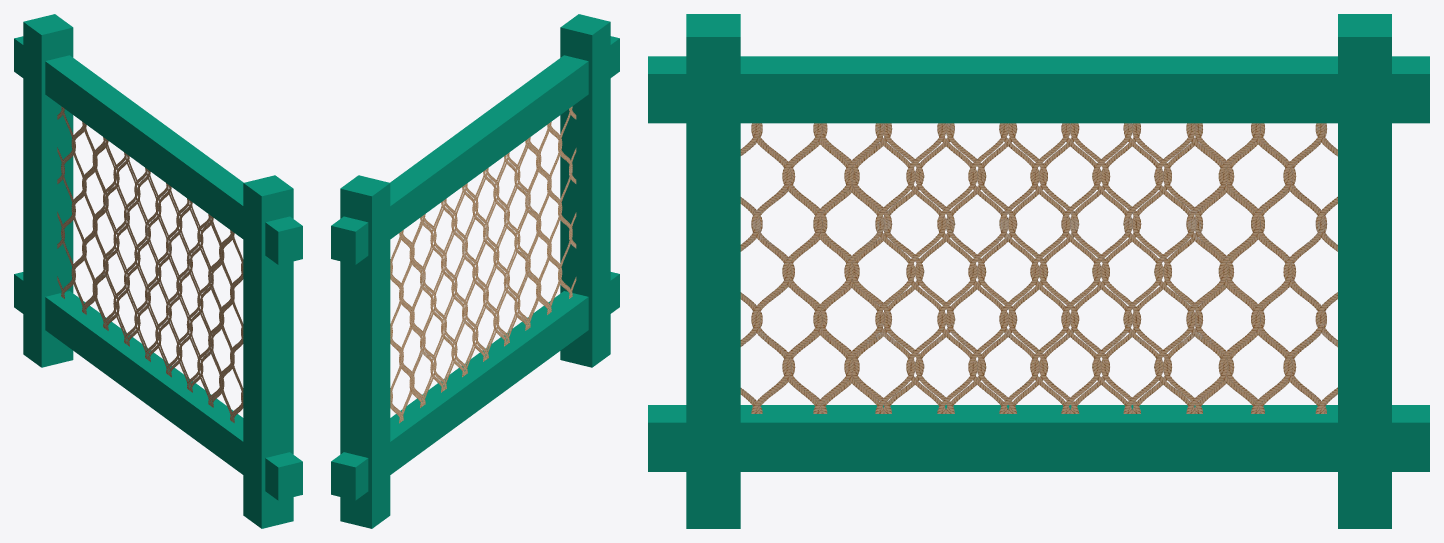
The model's file is net.fbx.
The picture shows the model from 3 angles, left to right: view 1: azimuth 30°, elevation 25°; view 2: azimuth 150°, elevation 25°; view 3: azimuth 270°, elevation 25°; orthographic projection. The views are drawn at different scales.
Visible parts, largest first — view 1: pCube1, pCube2, pCube4, pCube3, pPlane2, pPlane1; view 2: pCube2, pCube1, pCube4, pCube3, pPlane2, pPlane1; view 3: pCube4, pCube3, pPlane1, pCube1, pCube2, pPlane2.
Boxes of the visible parts, x1,y1,x2,y2 form: pCube1: (243, 175, 293, 528); pCube2: (23, 14, 73, 367); pCube4: (14, 36, 302, 264); pCube3: (14, 272, 302, 500); pPlane2: (57, 106, 243, 421); pPlane1: (57, 108, 242, 423); pCube2: (340, 175, 390, 528); pCube1: (560, 14, 610, 367); pCube4: (331, 36, 619, 264); pCube3: (331, 272, 619, 500); pPlane2: (390, 107, 576, 423); pPlane1: (390, 106, 576, 420); pCube4: (648, 56, 1429, 123); pCube3: (648, 405, 1429, 471); pPlane1: (740, 123, 1337, 413); pCube1: (686, 14, 740, 528); pCube2: (1338, 14, 1391, 528); pPlane2: (740, 123, 1337, 413).
Bounding box in the file's own units: 1 × 10 × 14.4.
Materials: 2 (1 with a texture image).
